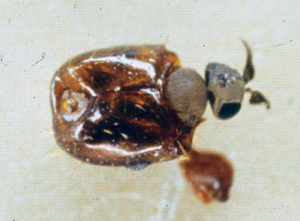phorid fly: (51, 31, 291, 211)
